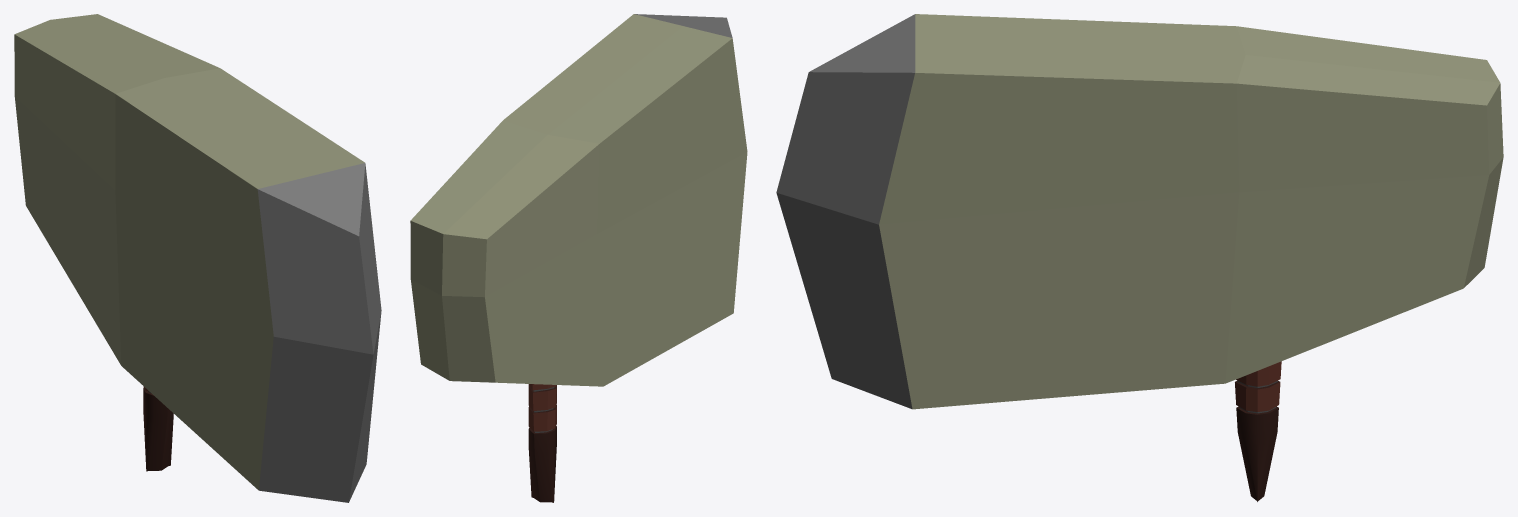
File: Axe26.glb
3 renders of one model, left to right at view 1: azimuth 30°, elevation 25°; view 2: azimuth 150°, elevation 25°; view 3: azimuth 270°, elevation 25°, orthographic. The views are drawn at different scales.
Parts seen in each view (by area): view 1: weapon_generator; view 2: weapon_generator; view 3: weapon_generator.
Part boxes in pixels (x1,y1,x2,y2): weapon_generator: [14, 14, 381, 502]; weapon_generator: [410, 14, 747, 502]; weapon_generator: [776, 14, 1503, 501].
Size of the model in its own units: 0.0765 by 0.2746 by 0.3997.
